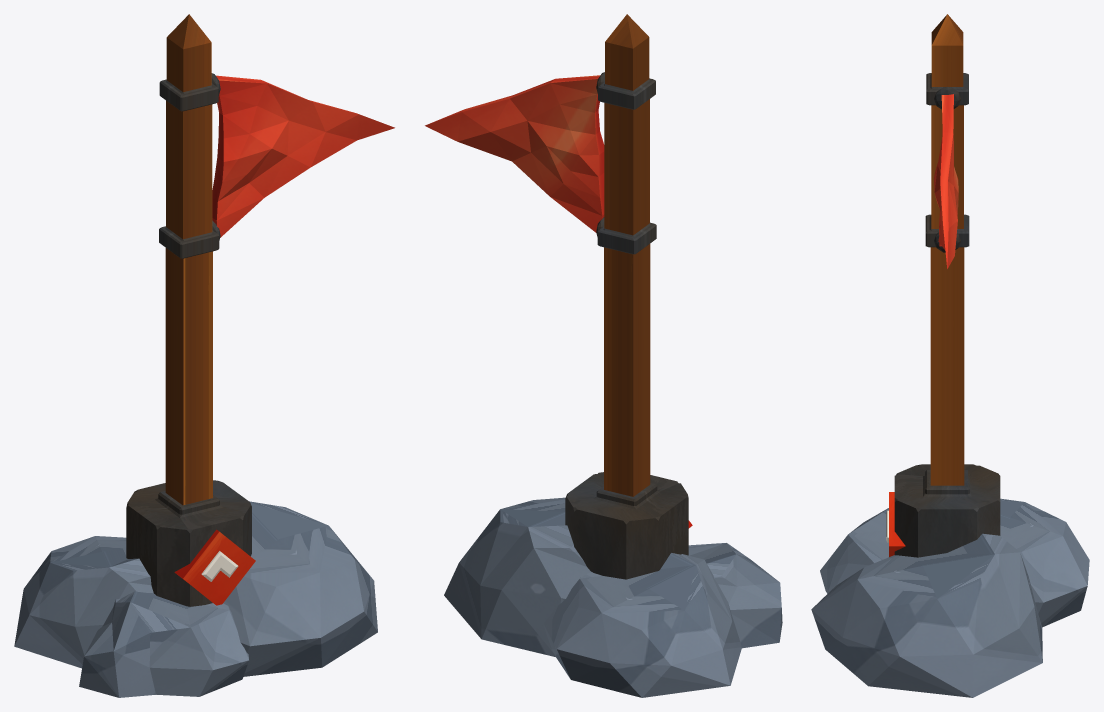
File: Flag.fbx
3 views of the same model, side by side, from view 1: azimuth 30°, elevation 25°; view 2: azimuth 150°, elevation 25°; view 3: azimuth 270°, elevation 25° (orthographic). The views are drawn at different scales.
Visible parts, largest first — view 1: Flag; view 2: Flag; view 3: Flag.
Boxes of the visible parts, x1=… form: Flag: x1=14, y1=14, x2=394, y2=697; Flag: x1=425, y1=14, x2=782, y2=697; Flag: x1=811, y1=14, x2=1089, y2=697.
Size of the model in its own units: 1.94 by 3.35 by 1.4.
